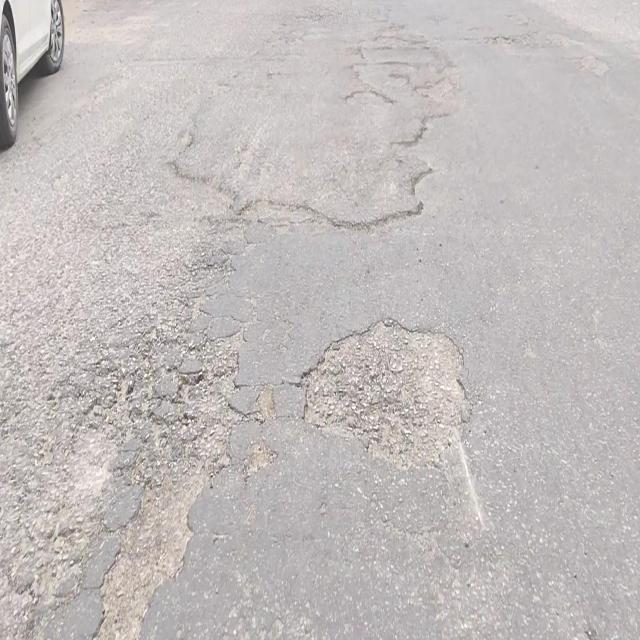Potholes: (90, 453, 211, 640), (308, 321, 463, 445)
